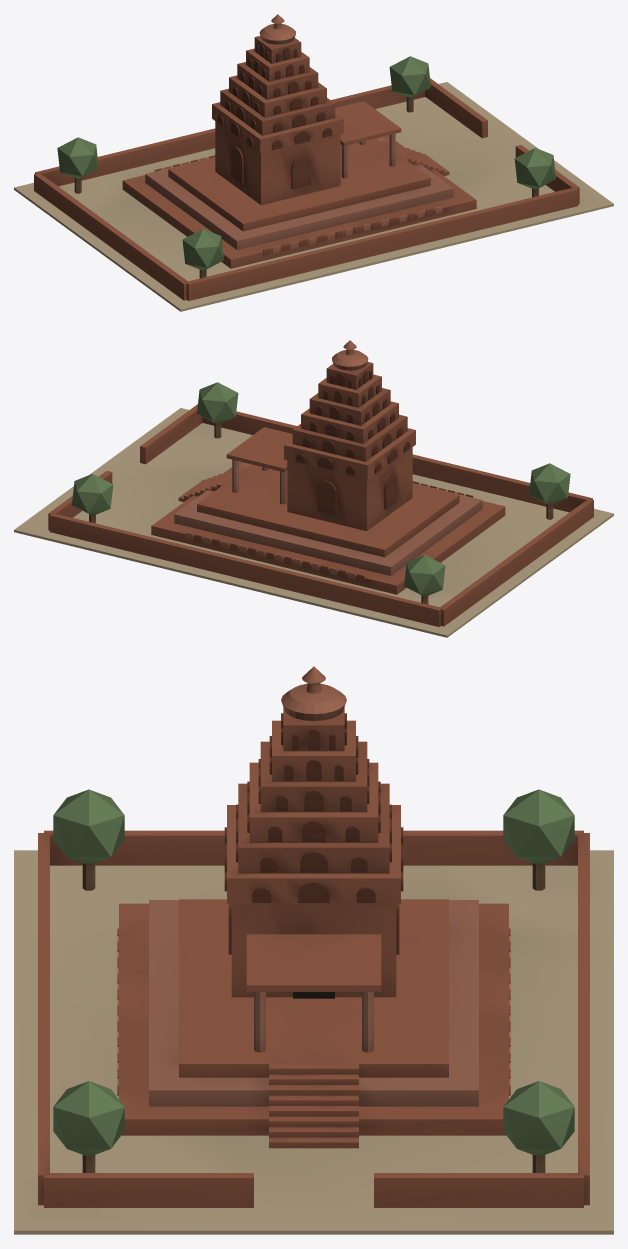
Rendered from gupta-temple.glb.
The picture shows the model from 3 angles, top to bottom: view 1: azimuth 30°, elevation 25°; view 2: azimuth 150°, elevation 25°; view 3: azimuth 270°, elevation 25°; orthographic projection. The views are drawn at different scales.
Visible parts, largest first — view 1: p0_plinth, p3_trees, p1_sanctum and tower, p2_amalaka and porch; view 2: p0_plinth, p3_trees, p1_sanctum and tower, p2_amalaka and porch; view 3: p0_plinth, p3_trees, p1_sanctum and tower, p2_amalaka and porch.
Boxes of the visible parts, box(x1,y1,x2,y2) form: p0_plinth: box(14, 82, 613, 311); p3_trees: box(34, 56, 579, 300); p1_sanctum and tower: box(154, 36, 442, 255); p2_amalaka and porch: box(217, 14, 401, 178); p0_plinth: box(14, 408, 613, 637); p3_trees: box(48, 382, 593, 626); p1_sanctum and tower: box(185, 362, 473, 581); p2_amalaka and porch: box(226, 340, 410, 504); p0_plinth: box(14, 850, 613, 1234); p3_trees: box(38, 789, 589, 1207); p1_sanctum and tower: box(117, 707, 510, 1095); p2_amalaka and porch: box(224, 666, 403, 1052).
Bounding box in the file's own units: 60 × 25.5 × 40.
